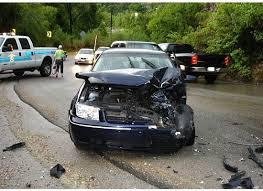bonnet-dent: (84, 69, 178, 94)
front-bumper-dent: (128, 118, 189, 148)
